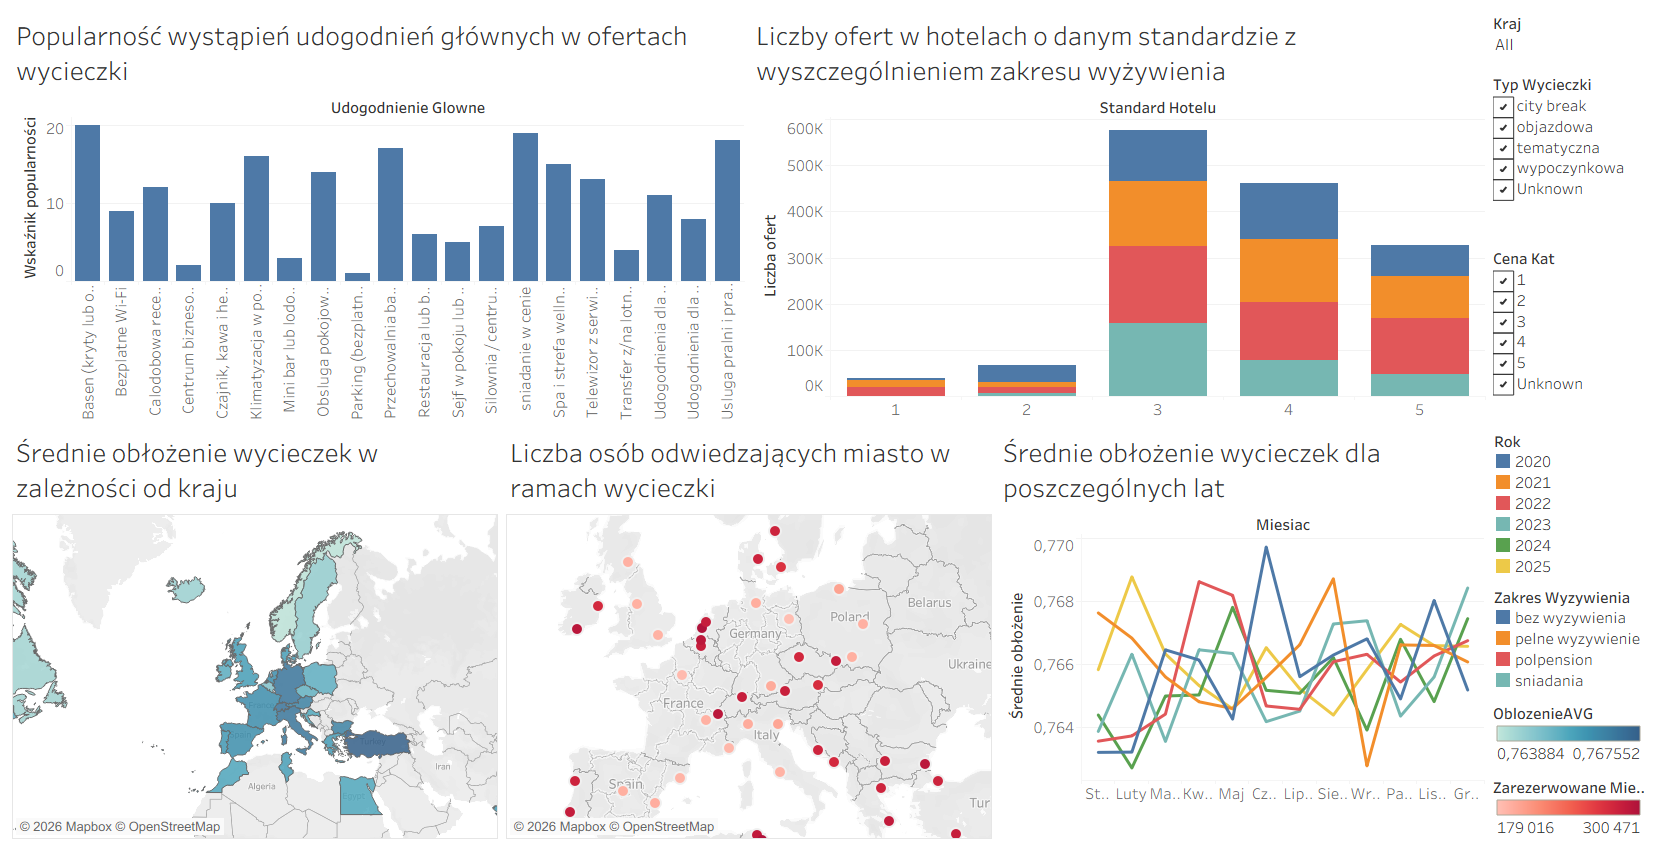

This screenshot's page, from the dashboard's own definition file:
{"tool":"tableau","page":{"name":"Dashboard 3","canvas":[1000,1000],"units":"permille","ordinal":1},"visuals":[{"type":"worksheet","title":"Sheet 7","mark":"Automatic","cols":["Udogodnienie Glowne"],"box":[4.8,9.4,446.7,490.6]},{"type":"worksheet","title":"Sheet 5","mark":"Automatic","rows":["Oferta Count"],"cols":["Standard Hotelu"],"box":[451.6,9.4,446.8,490.6]},{"type":"filter","title":"Sheet 3","param":"[msolap.0nup5bk122q9sk11a9uje0o7y1kg].[Wycieczka].[Kraj]","box":[898.4,9.4,96.8,71.7]},{"type":"filter","title":"Sheet 8","param":"[msolap.0nup5bk122q9sk11a9uje0o7y1kg].[Wycieczka].[Typ Wycieczki]","box":[898.4,81.1,96.8,204.5]},{"type":"filter","title":"Sheet 11","param":"[msolap.0nup5bk122q9sk11a9uje0o7y1kg].[Wycieczka].[Cena Kat]","box":[898.4,285.5,96.8,216.2]},{"type":"worksheet","title":"Sheet 8","mark":"Automatic","box":[4.8,500,297.8,490.6]},{"type":"worksheet","title":"Sheet 11","mark":"Automatic","box":[302.7,500,297.8,490.6]},{"type":"worksheet","title":"Sheet 3","mark":"Automatic","rows":["OblozenieAVG"],"cols":["Miesiac"],"box":[600.5,500,297.9,490.6]},{"type":"legend","title":"Sheet 3","param":"[msolap.0nup5bk122q9sk11a9uje0o7y1kg].[Data].[Rok].[none:Rok:nk]","box":[898.4,501.8,96.8,183.3]},{"type":"legend","title":"Sheet 5","param":"[msolap.0nup5bk122q9sk11a9uje0o7y1kg].[Hotel].[Zakres Wyzywienia].[none:Zakres W","box":[898.4,685.1,96.8,134]},{"type":"legend","title":"Sheet 8","param":"[msolap.0nup5bk122q9sk11a9uje0o7y1kg].[none:OblozenieAVG:qk]","box":[898.4,819,96.8,85.8]},{"type":"legend","title":"Sheet 11","param":"[msolap.0nup5bk122q9sk11a9uje0o7y1kg].[none:Zarezerwowane Miejsca:qk]","box":[898.4,904.8,96.8,85.8]}]}

Visuals, with their boxes on the dashboard's canvas, which has no fixed pixel size, in thousandths of its width and height (x1, y1, x2, y2). These are canvas units, not pixel positions in the 1657x851 screenshot, which may show the page scaled, cropped or inside an application window:
"Sheet 7" worksheet: crop(5, 9, 452, 500)
"Sheet 5" worksheet: crop(452, 9, 898, 500)
"Sheet 3" filter: crop(898, 9, 995, 81)
"Sheet 8" filter: crop(898, 81, 995, 286)
"Sheet 11" filter: crop(898, 286, 995, 502)
"Sheet 8" worksheet: crop(5, 500, 303, 991)
"Sheet 11" worksheet: crop(303, 500, 600, 991)
"Sheet 3" worksheet: crop(600, 500, 898, 991)
"Sheet 3" legend: crop(898, 502, 995, 685)
"Sheet 5" legend: crop(898, 685, 995, 819)
"Sheet 8" legend: crop(898, 819, 995, 905)
"Sheet 11" legend: crop(898, 905, 995, 991)
